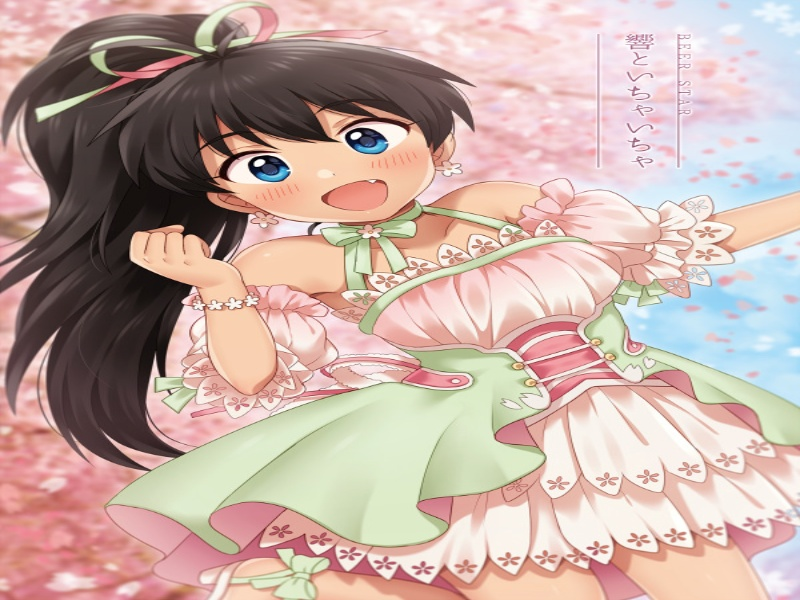flower: (250, 209, 279, 228), (355, 224, 385, 242), (436, 159, 463, 178), (205, 297, 226, 313), (226, 296, 244, 311), (242, 293, 259, 308), (192, 301, 204, 313)
